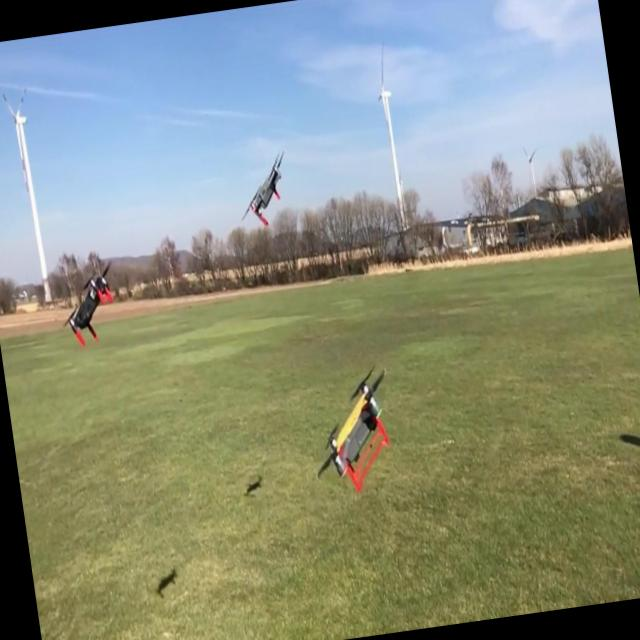drone: (302, 360, 402, 500), (55, 258, 123, 349), (234, 150, 295, 232)
